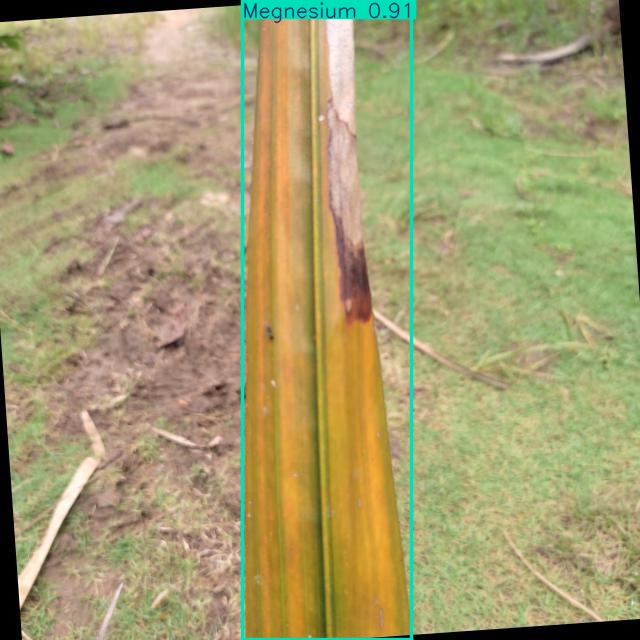Megnesium: (242, 0, 411, 640)
